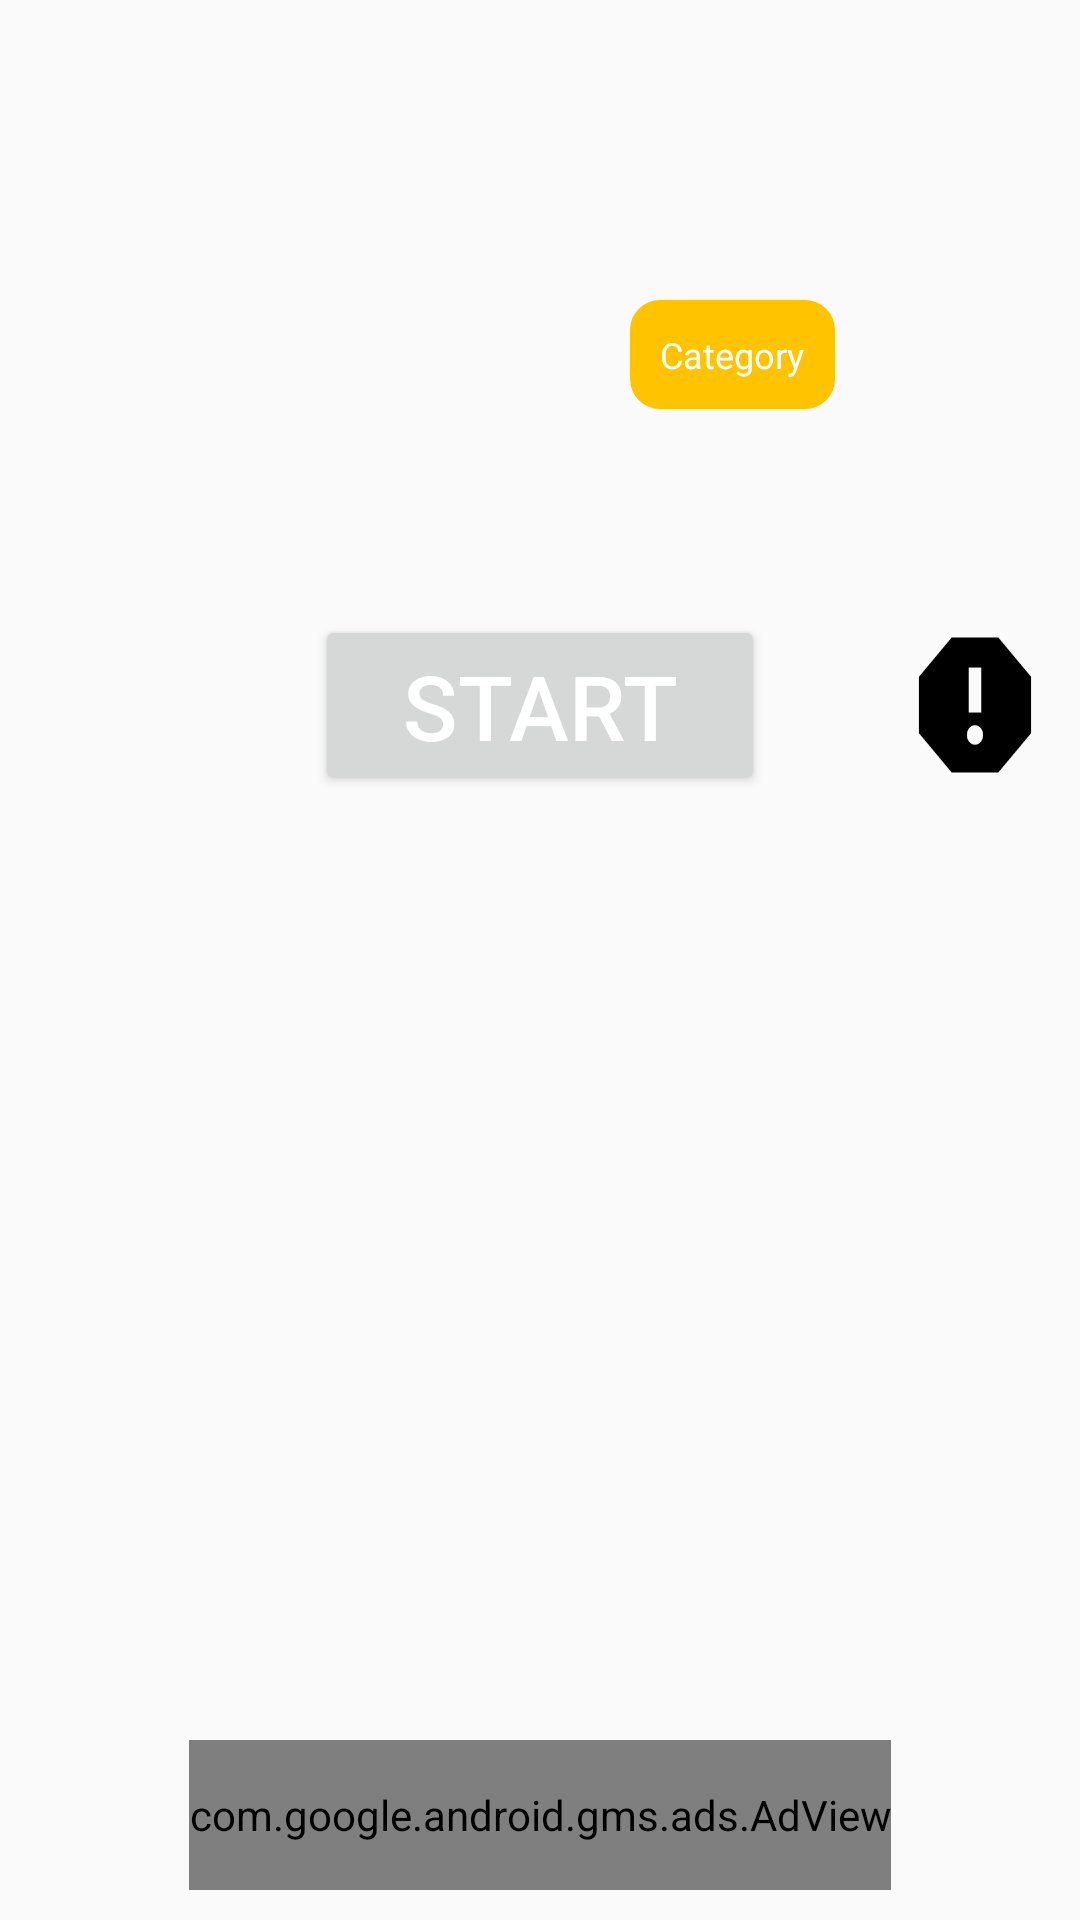

Icon bounding boxes for this 1080x1920 phone screenshot, format (x1, y1, x2, y2):
report: (919, 637, 1031, 773)
